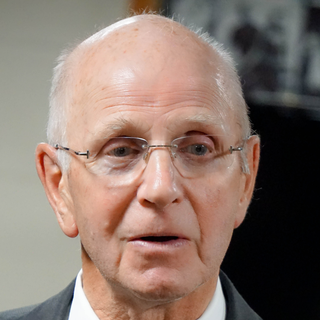eye: (173, 139, 214, 163), (103, 141, 136, 163)
